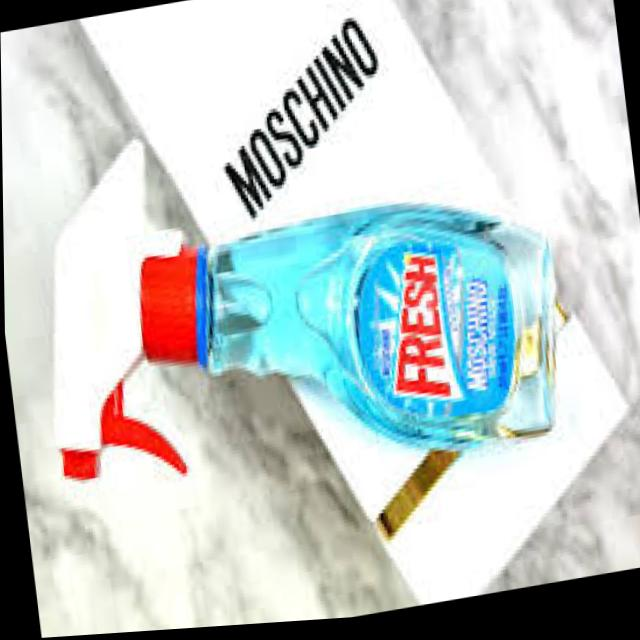Botella: (1, 52, 578, 558)
